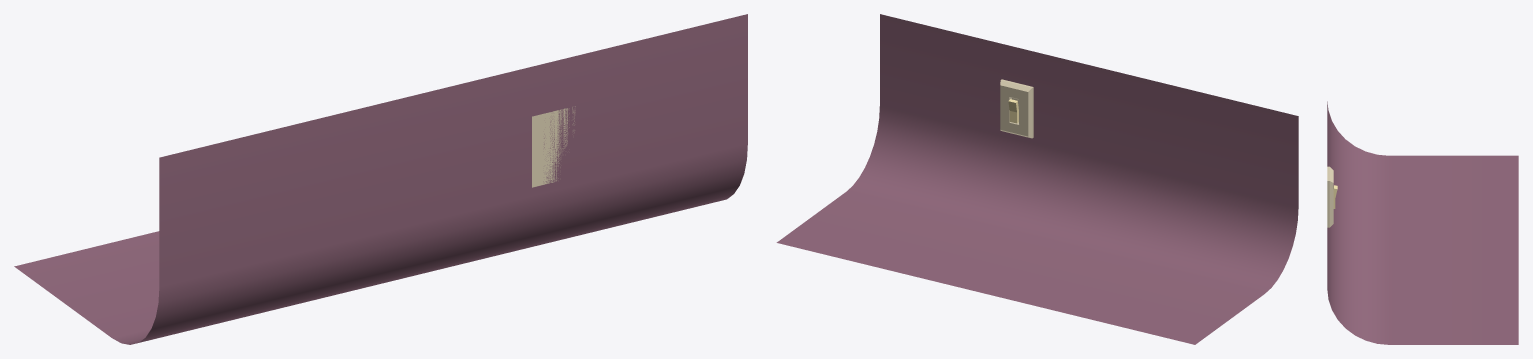
File: SwitchAndBackground.fbx
3 renders of one model, left to right at view 1: azimuth 30°, elevation 25°; view 2: azimuth 150°, elevation 25°; view 3: azimuth 270°, elevation 25°, orthographic. The views are drawn at different scales.
Visible parts, largest first — view 1: SwitchBackground, Switch; view 2: SwitchBackground, Switch; view 3: SwitchBackground, Switch.
Boxes of the visible parts, box(x1,y1,x2,y2) form: SwitchBackground: box(14, 14, 747, 344); Switch: box(532, 106, 575, 187); SwitchBackground: box(776, 14, 1298, 344); Switch: box(1000, 79, 1033, 138); SwitchBackground: box(1327, 101, 1518, 344); Switch: box(1327, 166, 1333, 227).
Size of the model in its own units: 1733 by 741 by 606.
